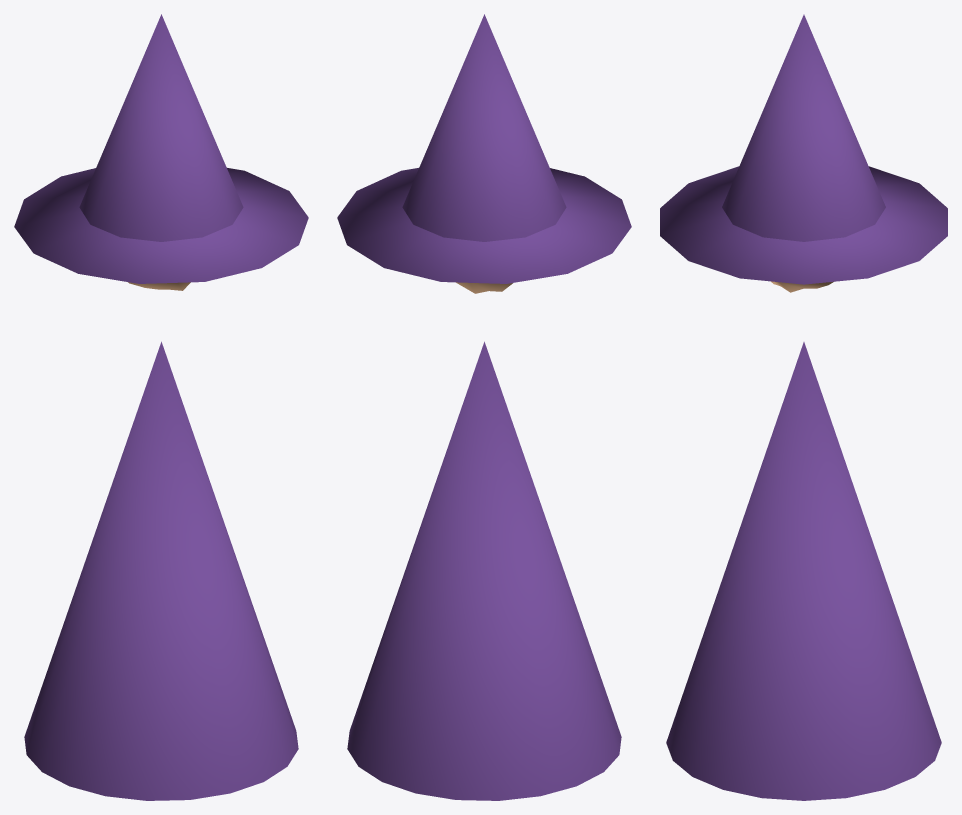
Rendered from mago.obj.
3 renders of one model, left to right at view 1: azimuth 30°, elevation 25°; view 2: azimuth 150°, elevation 25°; view 3: azimuth 270°, elevation 25°, orthographic.
Parts seen in each view (by area): view 1: tunica, chapeu_cone, chapeu_aba; view 2: tunica, chapeu_cone, chapeu_aba; view 3: tunica, chapeu_cone, chapeu_aba.
Part boxes in pixels (box(x1,y1,x2,y2)): tunica: box(24, 341, 298, 800); chapeu_cone: box(79, 14, 243, 241); chapeu_aba: box(14, 168, 308, 283); tunica: box(347, 341, 621, 800); chapeu_cone: box(402, 14, 566, 241); chapeu_aba: box(337, 168, 631, 283); tunica: box(666, 342, 941, 800); chapeu_cone: box(722, 14, 885, 241); chapeu_aba: box(660, 166, 947, 284).
Bounding box in the file's own units: 0.9 × 2.45 × 0.8774.
